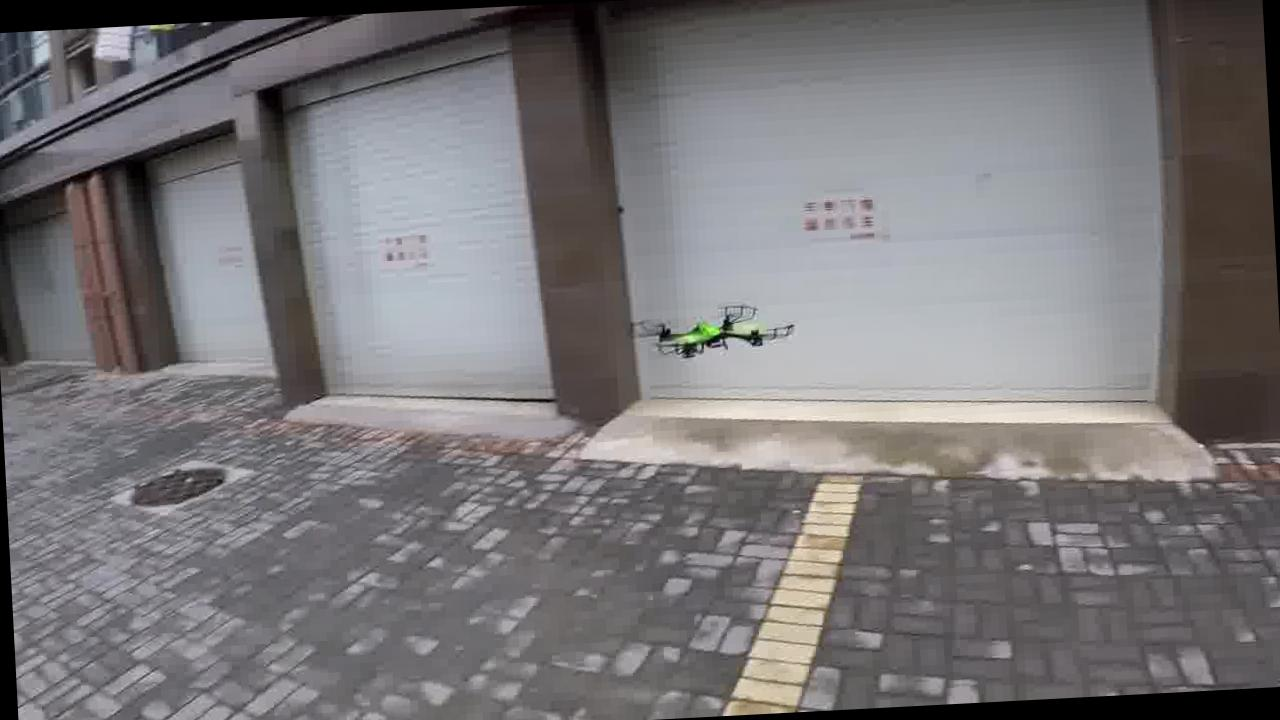drone: (616, 283, 804, 382)
